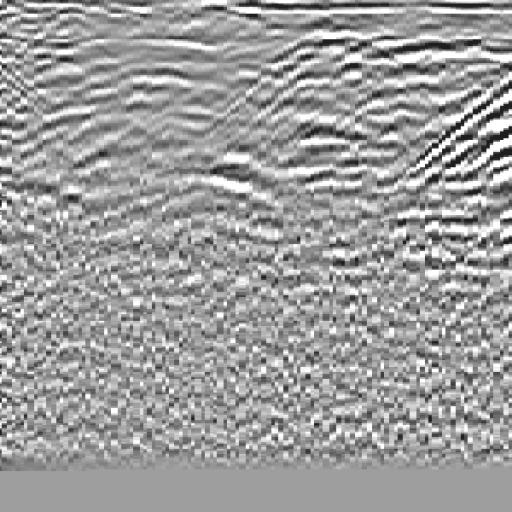metalic: (151, 52, 320, 259)
nonmetalic: (370, 45, 512, 272)
